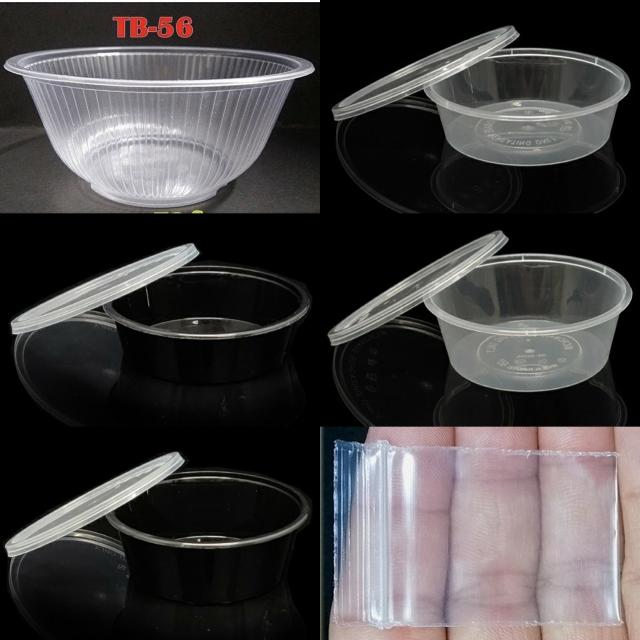Single-layer Plastic: (334, 441, 622, 628)
